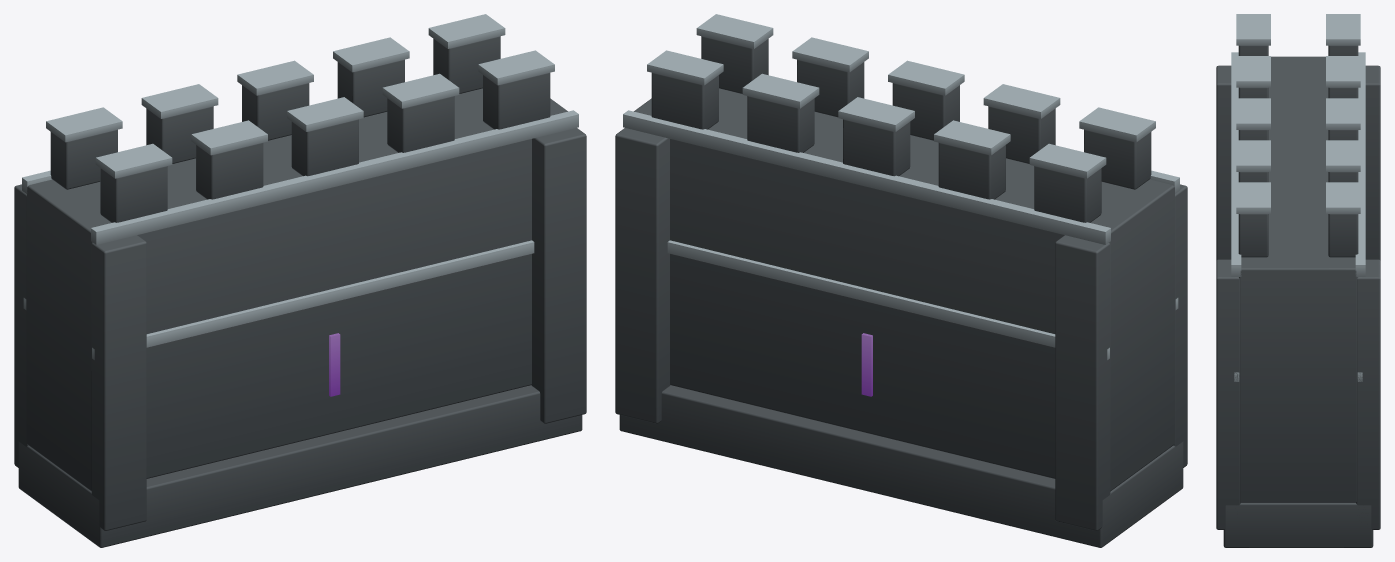
The model's file is eclipse_wall.glb.
3 renders of one model, left to right at view 1: azimuth 30°, elevation 25°; view 2: azimuth 150°, elevation 25°; view 3: azimuth 270°, elevation 25°, orthographic. The views are drawn at different scales.
Visible parts, largest first — view 1: eclipse_wall; view 2: eclipse_wall; view 3: eclipse_wall.
Boxes of the visible parts, box(x1,y1,x2,y2) form: eclipse_wall: box(14, 14, 586, 547); eclipse_wall: box(615, 14, 1187, 547); eclipse_wall: box(1216, 14, 1380, 547).
Bounding box in the file's own units: 10.1 × 7.34 × 3.3.
Materials: 2 (2 with a texture image).
